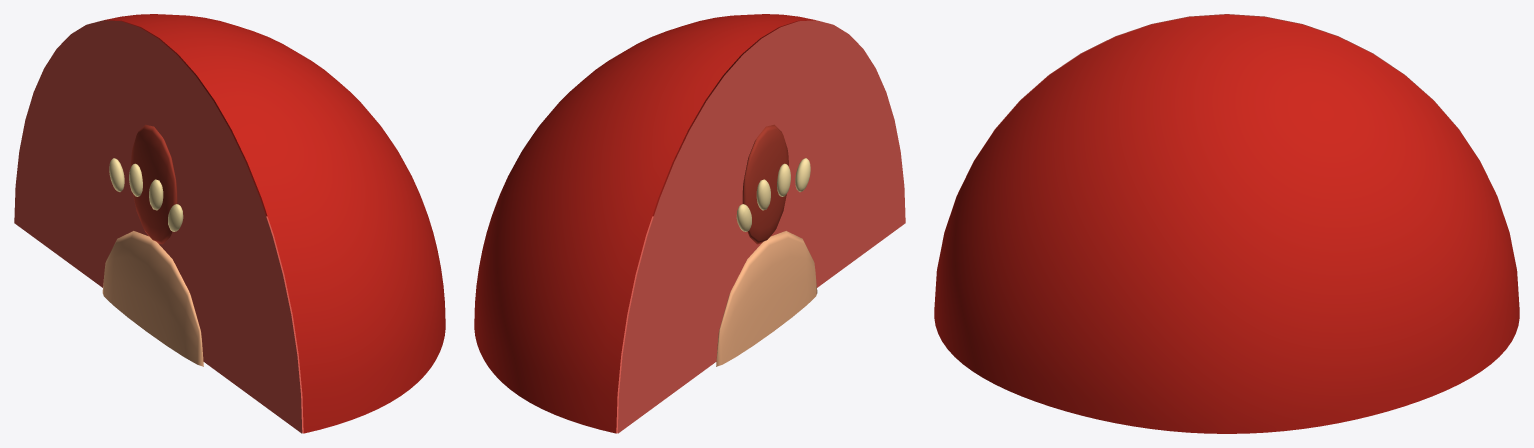
The model's file is cherry_wedge.glb.
3 views of the same model, side by side, from view 1: azimuth 30°, elevation 25°; view 2: azimuth 150°, elevation 25°; view 3: azimuth 270°, elevation 25° (orthographic).
Visible parts, largest first — view 1: Prepared right half, Cut flesh, Pale central core, Seed chamber; view 2: Prepared right half, Cut flesh, Pale central core, Seed chamber; view 3: Prepared right half, Cut flesh.
Part boxes in pixels (x1,y1,x2,y2): Prepared right half: [104, 14, 445, 433]; Cut flesh: [14, 20, 302, 433]; Pale central core: [102, 231, 203, 366]; Seed chamber: [131, 124, 177, 244]; Prepared right half: [474, 14, 815, 433]; Cut flesh: [617, 20, 905, 433]; Pale central core: [716, 231, 817, 366]; Seed chamber: [742, 124, 788, 244]; Prepared right half: [934, 14, 1519, 433]; Cut flesh: [934, 14, 1519, 307].
Bounding box in the file's own units: 0.5853 × 0.6 × 1.08.
